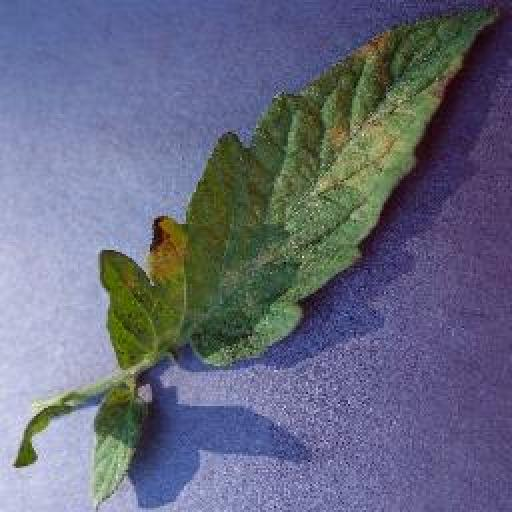disease_tomato: (99, 3, 503, 368)
